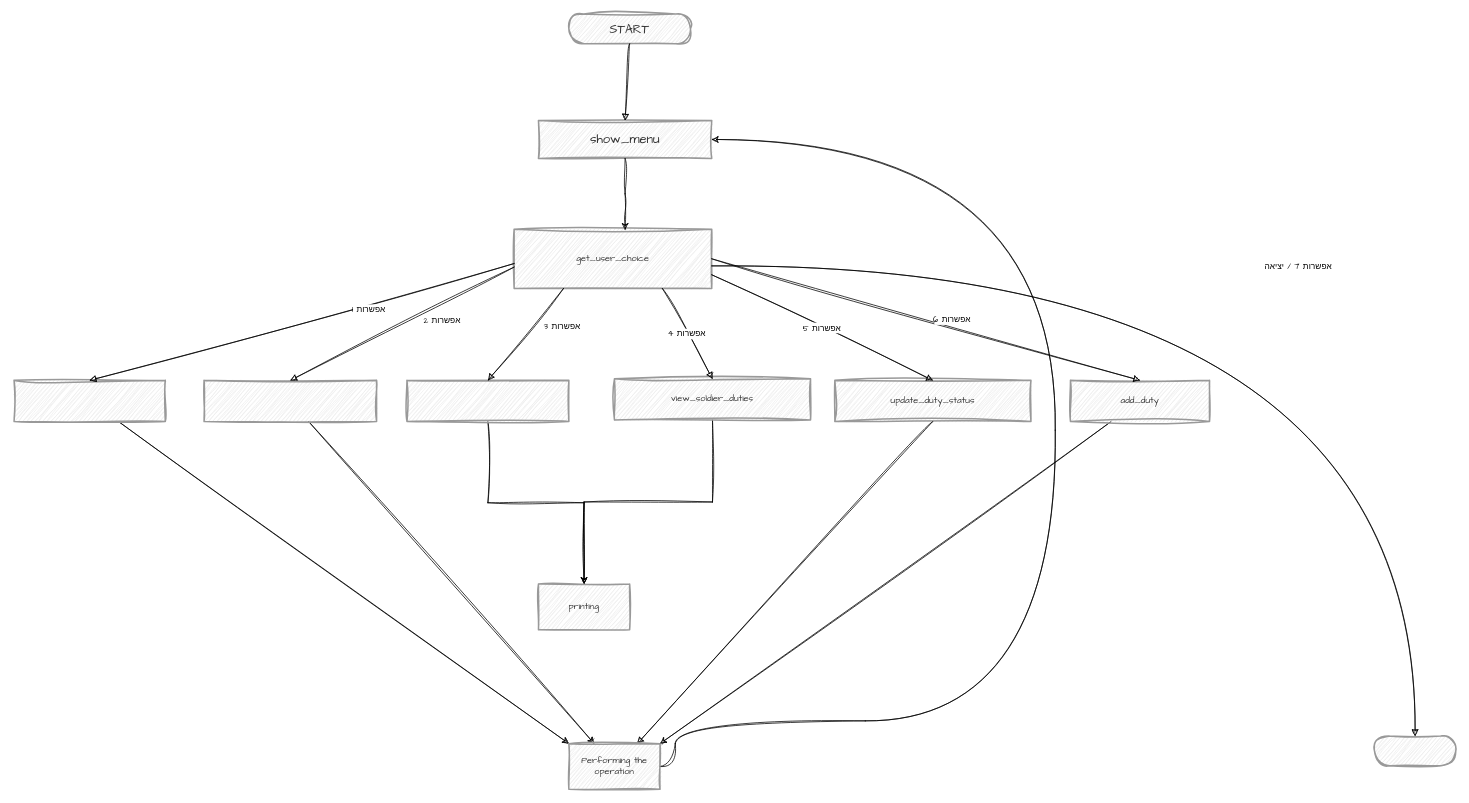
Image size: 1469x803. Some labels were removed from this diagram. The shapes that lost their labels are listed below. From the top down, each one's box as (x1, y1, x2, y2) in pixels, then its label:
(13, 379, 166, 422): add_soldier
(203, 379, 377, 422): remove_soldier
(406, 379, 569, 422): view_soldiers
(1373, 735, 1456, 766): סיום התוכנית
